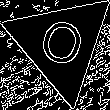O_S: (34, 13, 89, 75)
